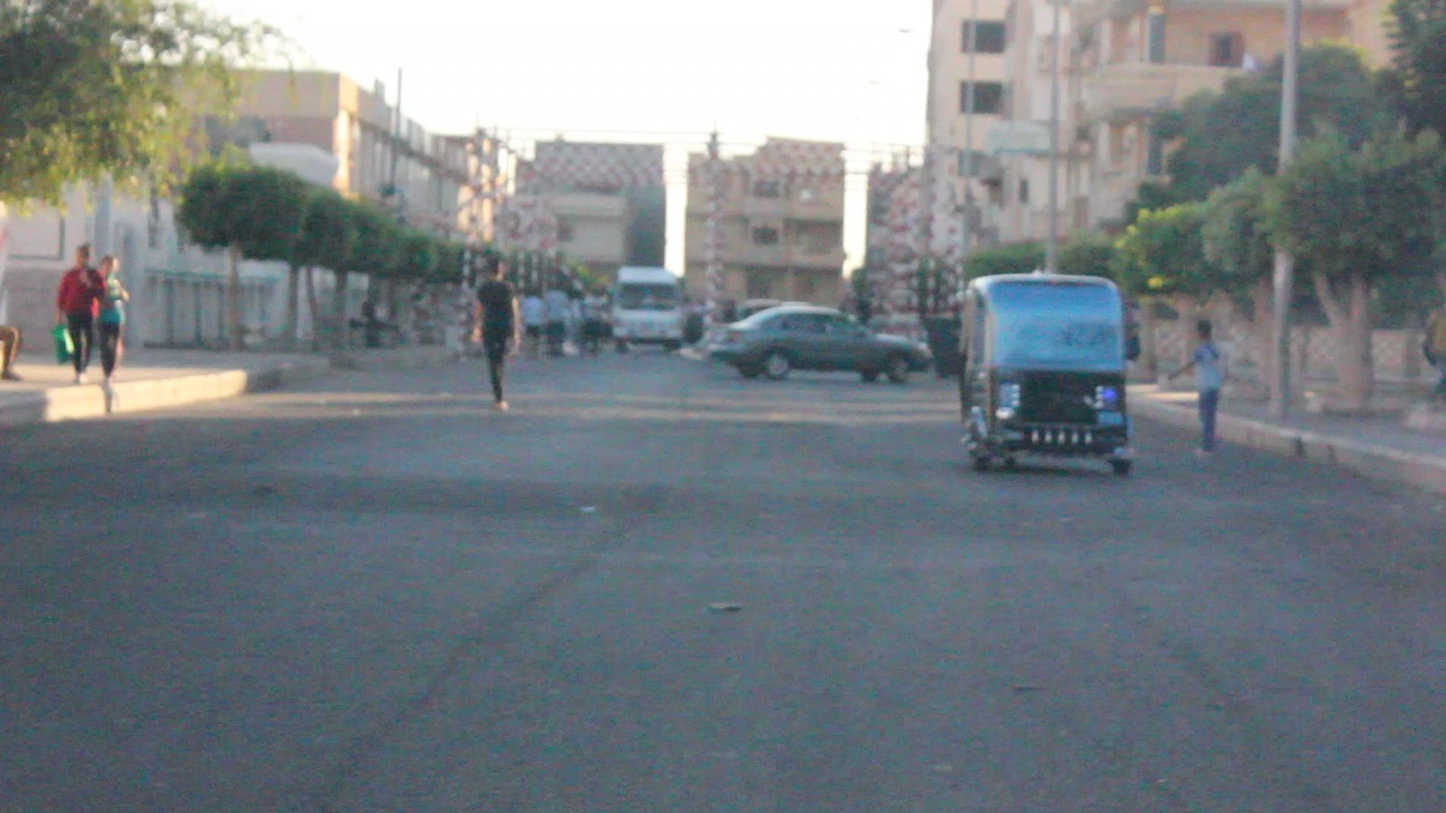Bump: (4, 450, 1446, 568)
